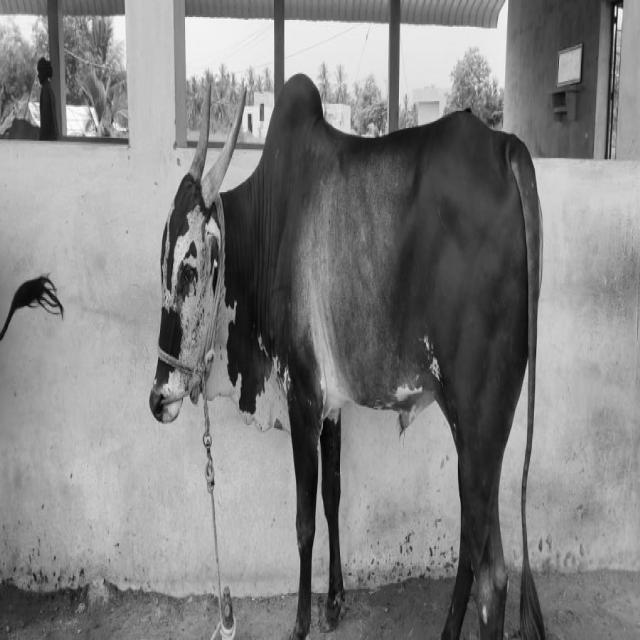Cow: (148, 71, 547, 637)
